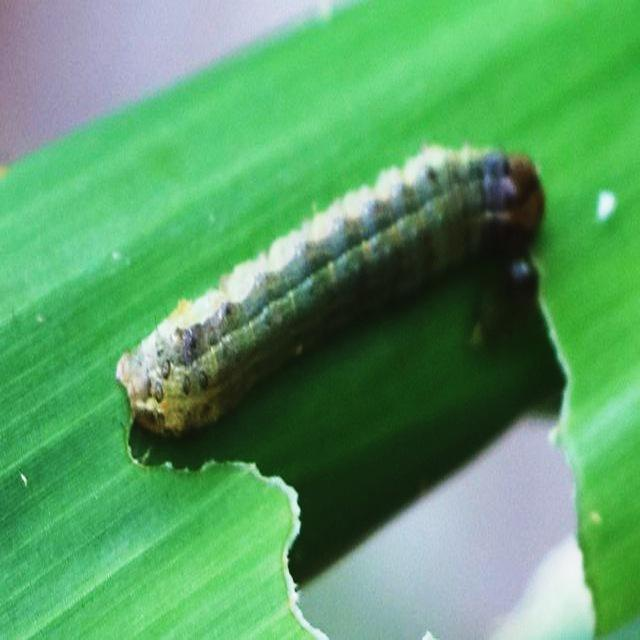gusano_cogollero: (122, 142, 545, 432)
